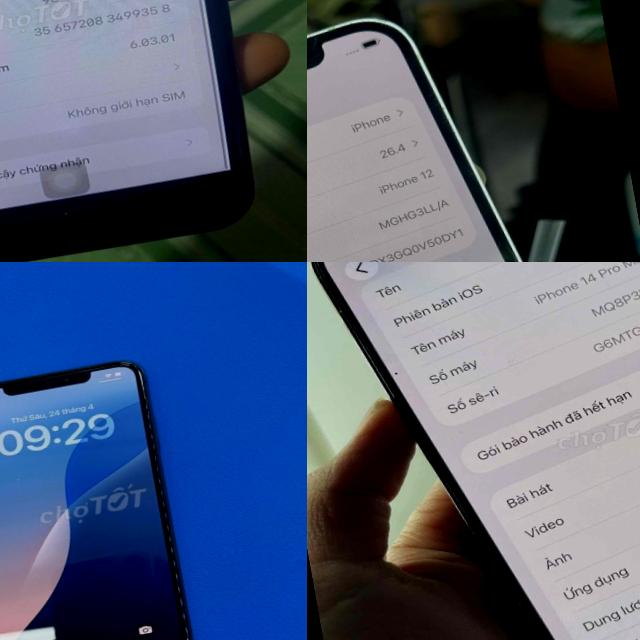gen_12_13: (307, 0, 640, 262)
gen_14: (307, 262, 640, 640)
gen_7_8: (0, 0, 285, 262)
gen_x_xs: (0, 352, 200, 640)
scratch: (56, 205, 71, 216)
